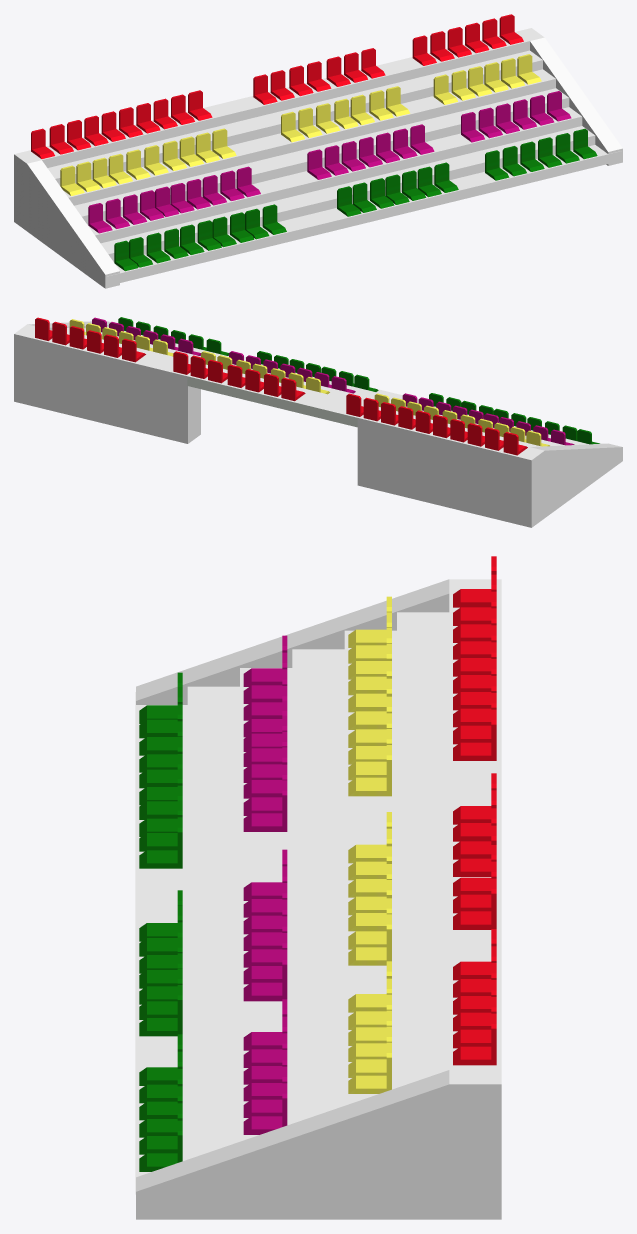
File: SM_Tribune.fbx
The picture shows the model from 3 angles, top to bottom: view 1: azimuth 30°, elevation 25°; view 2: azimuth 150°, elevation 25°; view 3: azimuth 270°, elevation 25°; orthographic projection. The views are drawn at different scales.
Parts seen in each view (by area): view 1: SM_Tribune; view 2: SM_Tribune; view 3: SM_Tribune.
Part boxes in pixels (x1,y1,x2,y2): SM_Tribune: [14, 14, 622, 288]; SM_Tribune: [14, 317, 622, 527]; SM_Tribune: [135, 556, 501, 1219].
Size of the model in its own units: 1755 by 283 by 538.
